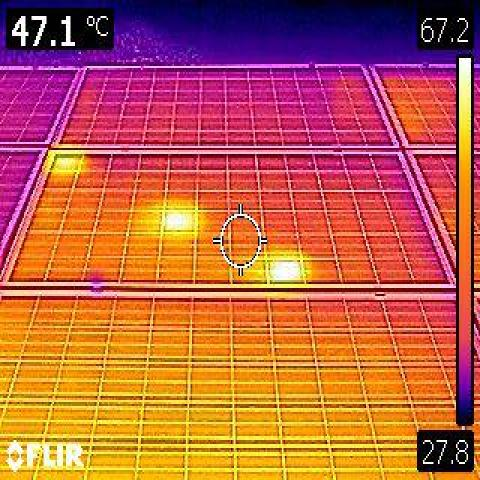fault: (269, 261, 302, 283), (53, 154, 79, 173), (164, 212, 191, 230)
